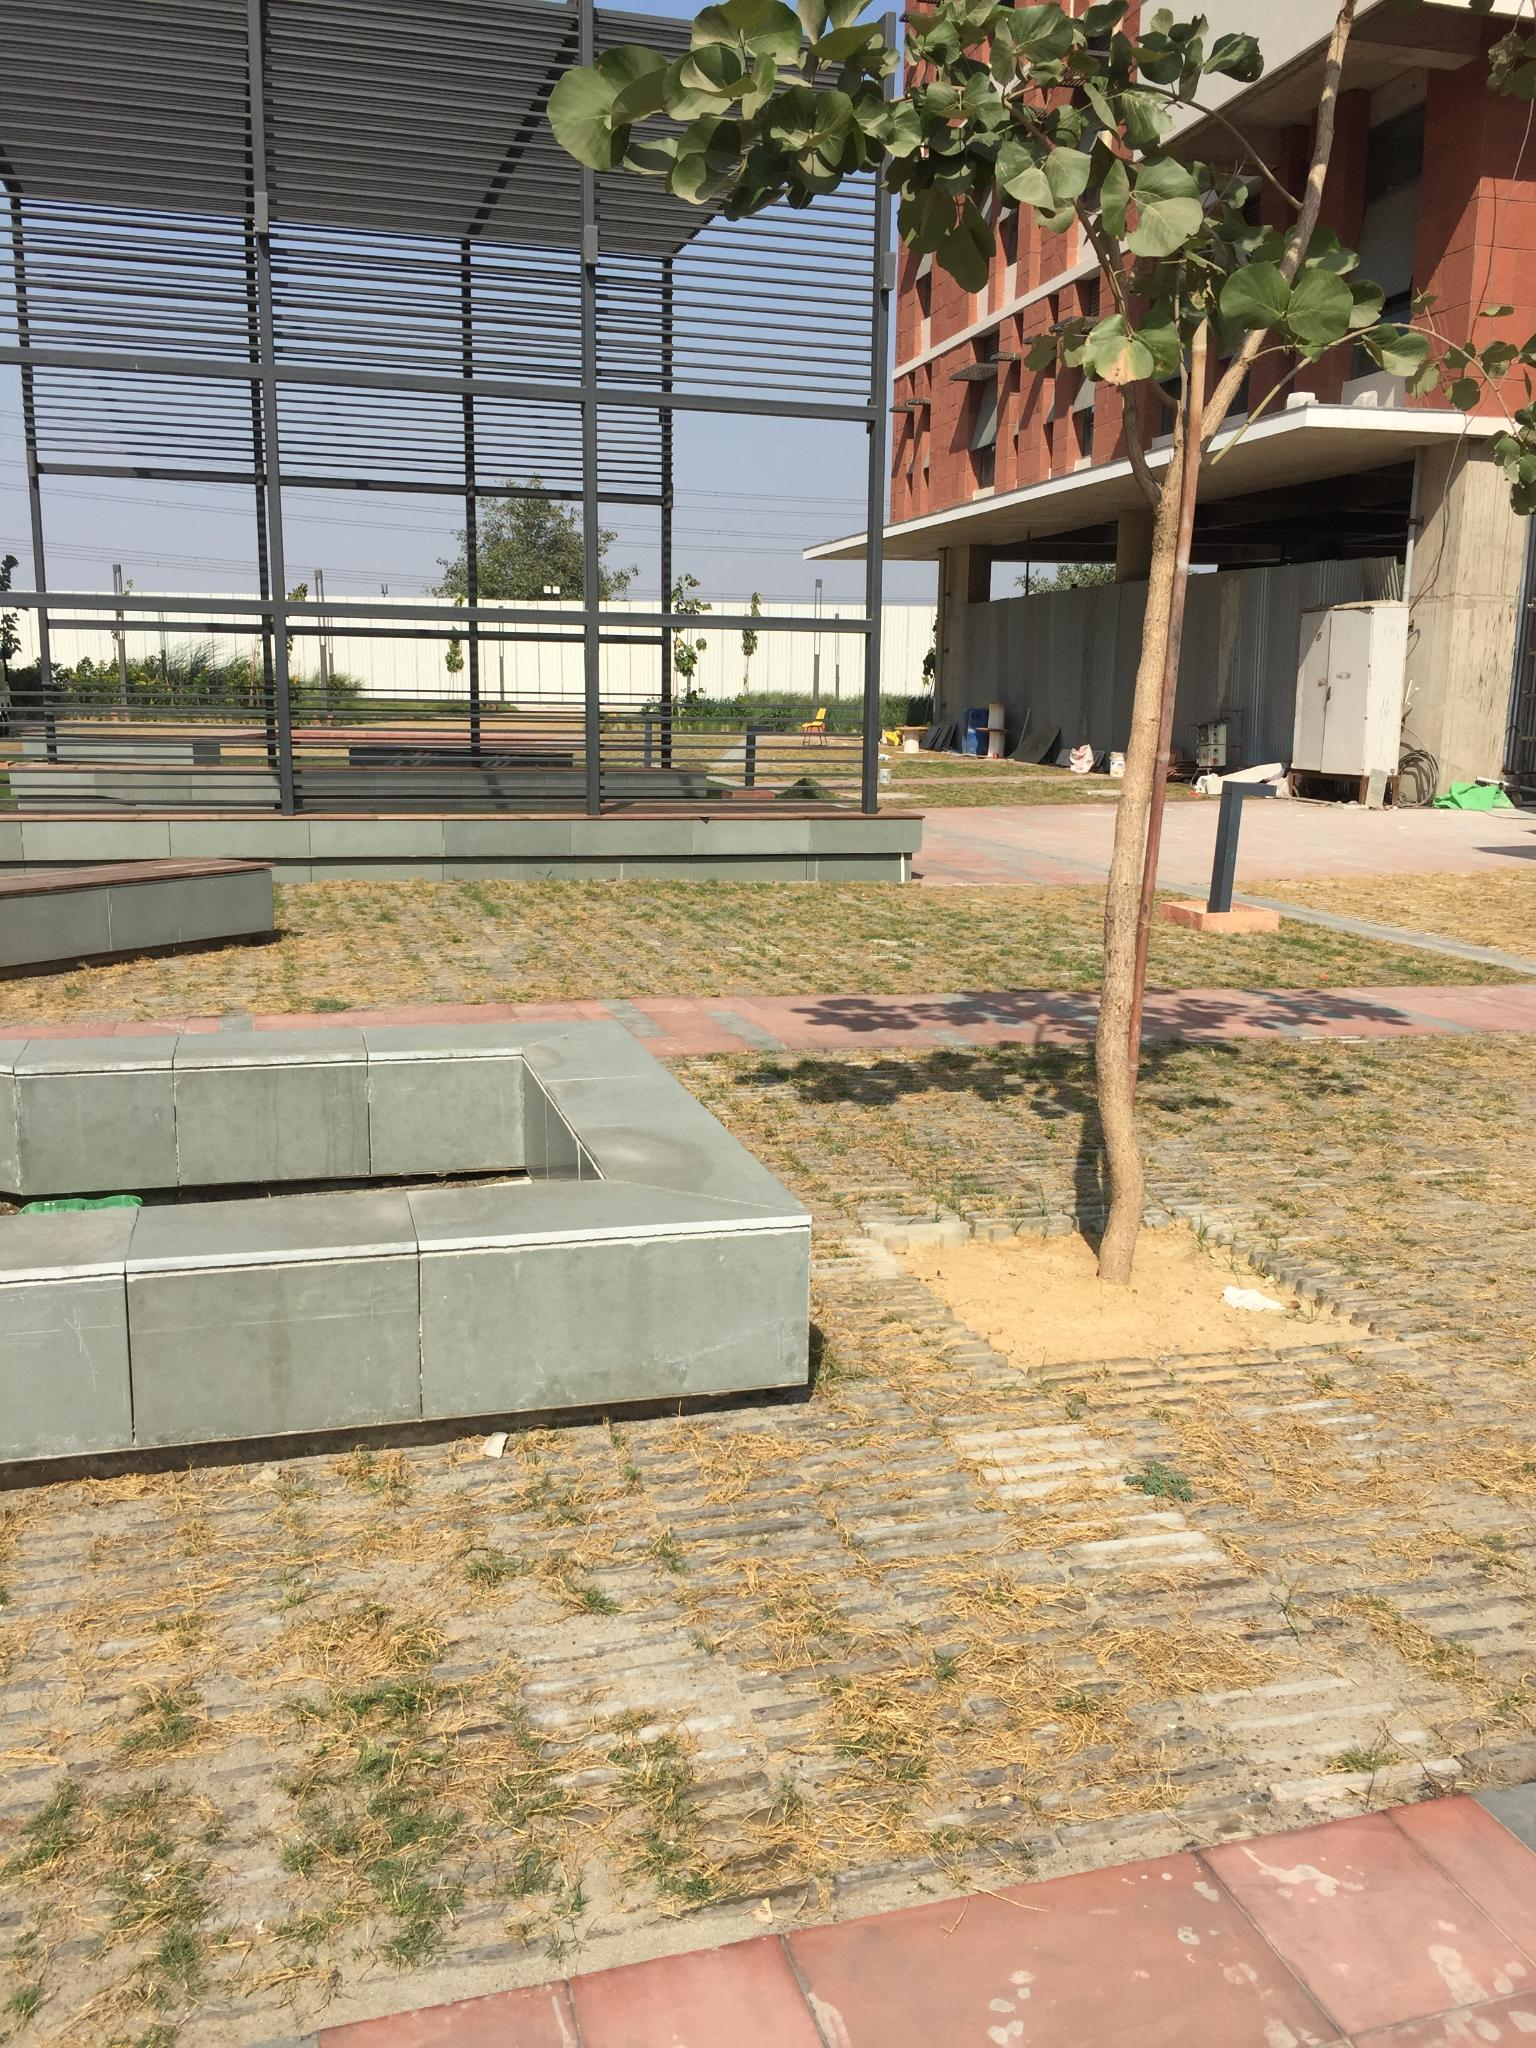chair: (799, 708, 829, 747)
